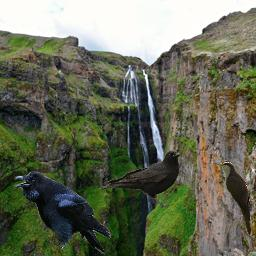Crow: (14, 171, 111, 255), (100, 150, 180, 208)
Cuckoo: (216, 161, 253, 236)
